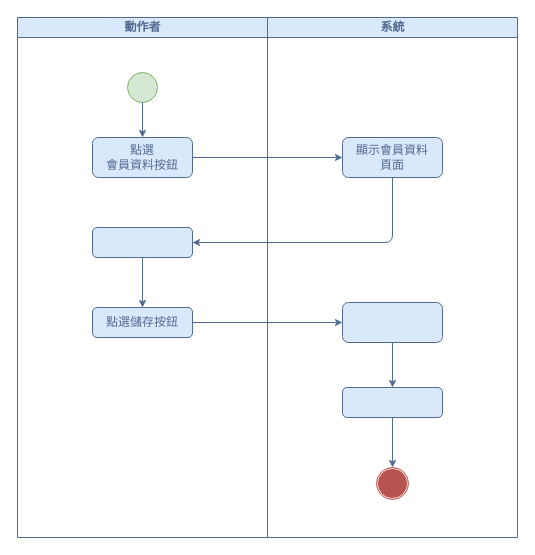
Image size: 535x555. Some labels were removed from this diagram. Here are the shapes that lost their labels. From the top down, the centre of each, then its label:
At point (142, 242): "修改會員資料".
At point (392, 322): "儲存變更 至資料庫".
At point (392, 402): "提示儲存成功".
